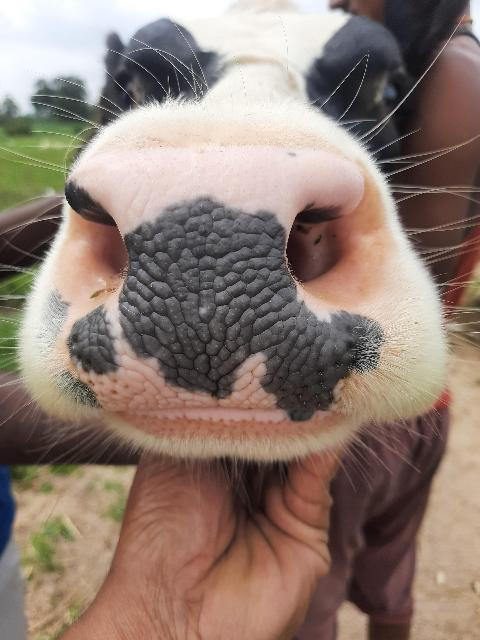Muzzle: (73, 150, 352, 414)
